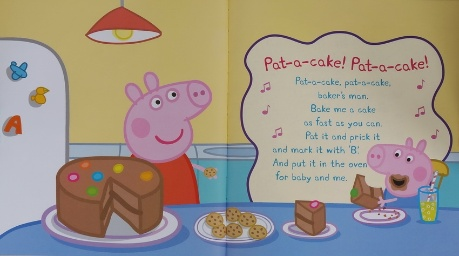Peppa: (121, 71, 217, 207)
